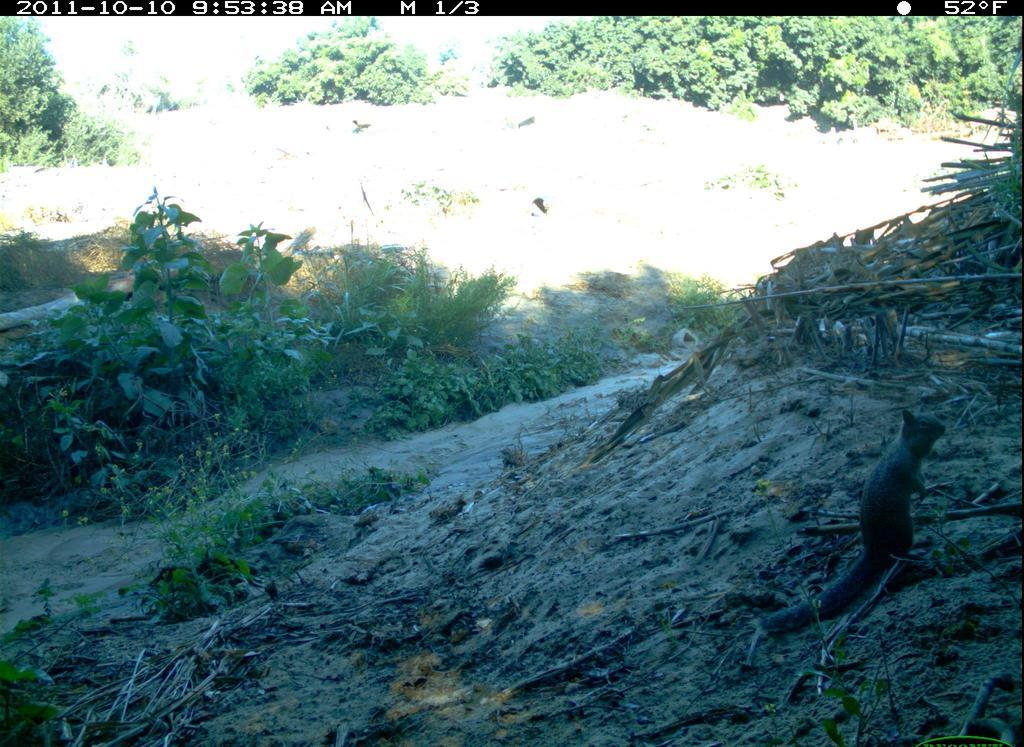squirrel: (754, 396, 952, 639)
